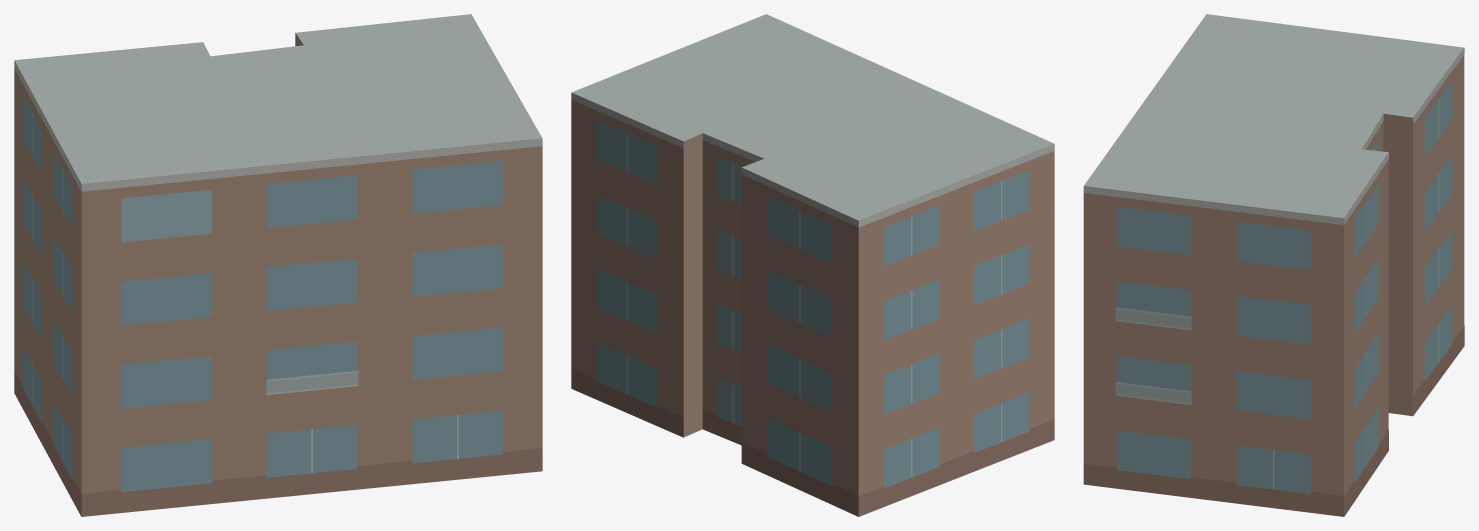
Rendered from survey-upis-32880971.glb.
3 views of the same model, side by side, from view 1: azimuth 30°, elevation 25°; view 2: azimuth 150°, elevation 25°; view 3: azimuth 270°, elevation 25° (orthographic). The views are drawn at different scales.
Parts seen in each view (by area): view 1: survey-upis-32880971.tmp; view 2: survey-upis-32880971.tmp; view 3: survey-upis-32880971.tmp.
Boxes of the visible parts, bbox=[...] form: survey-upis-32880971.tmp: bbox=[14, 14, 542, 516]; survey-upis-32880971.tmp: bbox=[571, 14, 1054, 516]; survey-upis-32880971.tmp: bbox=[1083, 14, 1464, 516].
Size of the model in its own units: 15.42 by 10.5 by 12.14.
